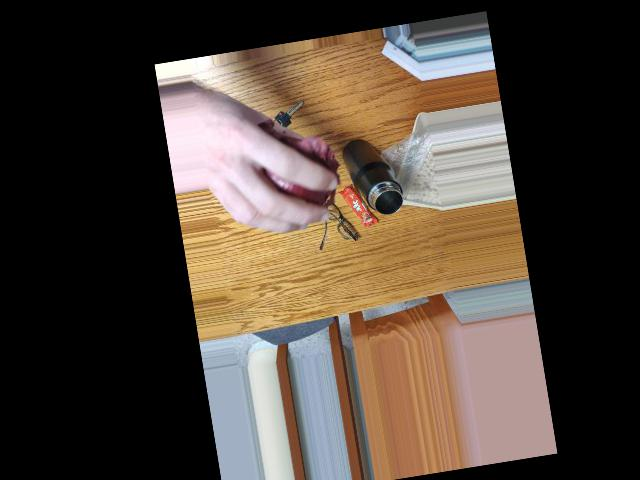onion: (247, 120, 328, 221)
